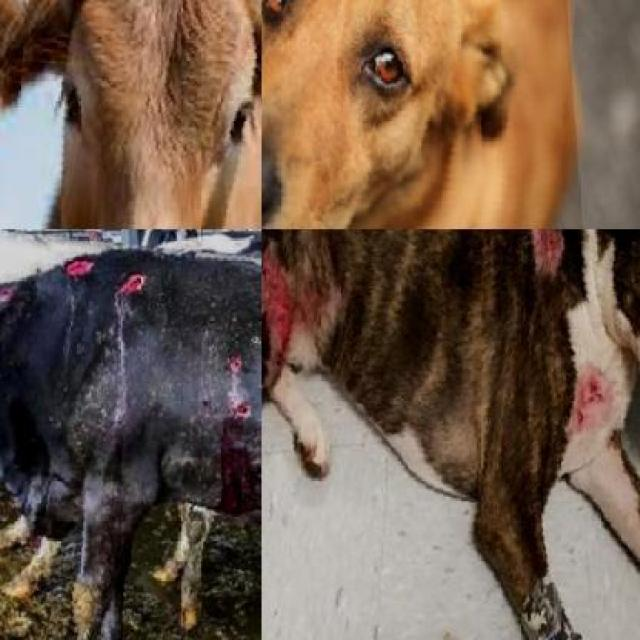cow: (0, 229, 262, 640), (0, 0, 262, 229)
dog: (261, 229, 640, 640), (262, 0, 592, 229)
injured: (262, 283, 316, 420), (570, 332, 616, 440), (11, 258, 54, 324), (78, 268, 120, 335), (202, 384, 262, 430), (503, 229, 545, 262), (201, 329, 230, 365), (272, 230, 306, 258)
